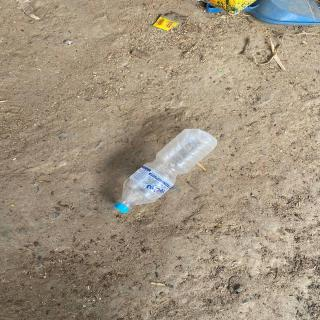Plastic-bottle: (112, 126, 220, 217)
